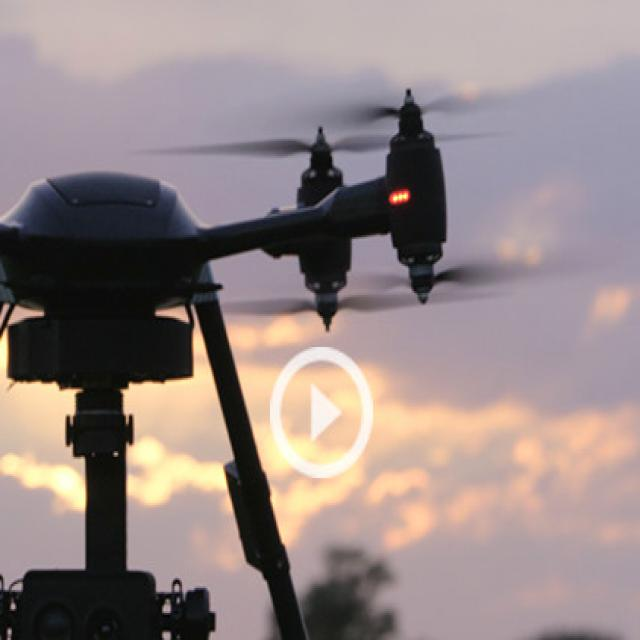drone: (0, 70, 590, 420)
